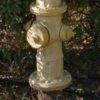Hydrant: (24, 1, 79, 95)
